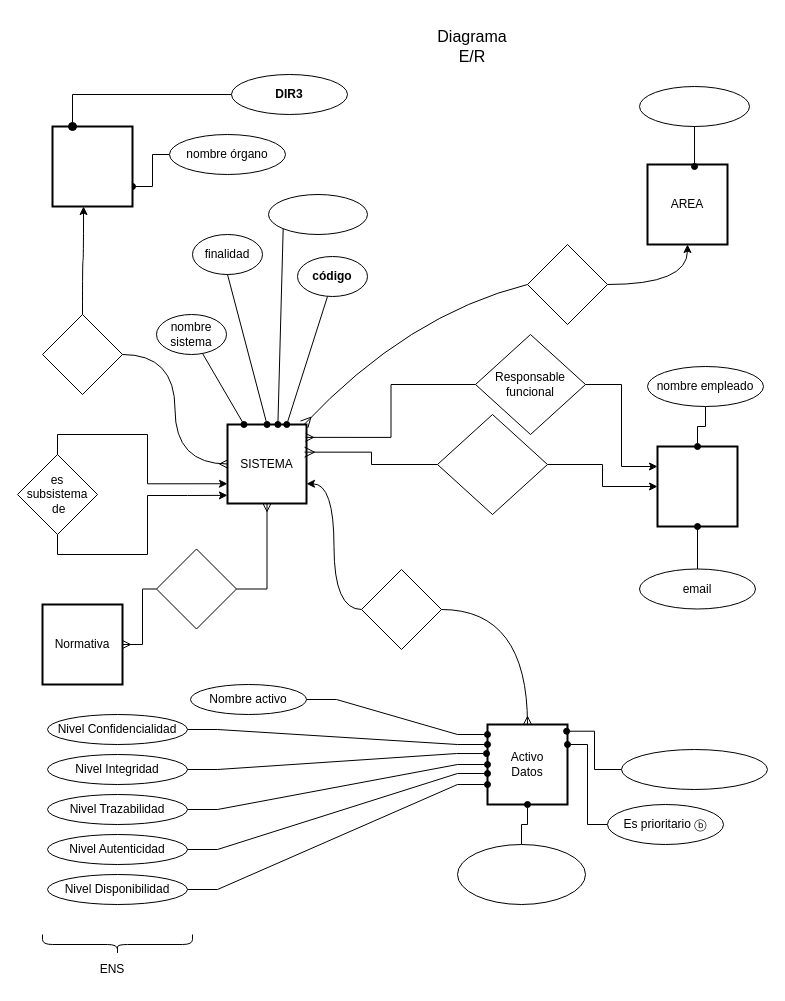
This 785x1001 diagram has some shape labels left out. Here are the shapes that lost their labels. From the top down, the centre of each, then its label:
At [694,106]: "nombre_area".
At [92,166]: "ORGANO".
At [318,214]: "observaciones".
At [567,284]: "clasifica".
At [82,354]: "pertenece".
At [492,464]: "es responsabilidad tecnológica de".
At [697,486]: "EMPLEADO".
At [196,588]: "regula".
At [401,609]: "contiene".
At [694,769]: "Está georeferenciado ⓑ".
At [521,874]: "contiene datos personales ⓑ".
